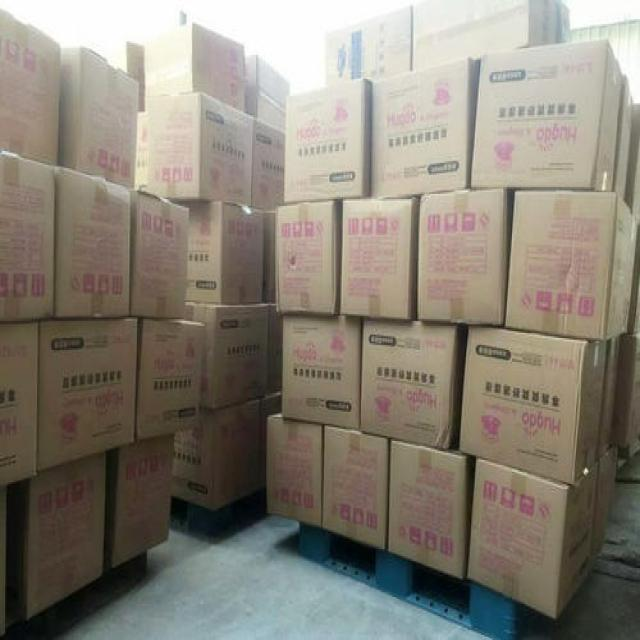box: (457, 323, 608, 486), (468, 41, 625, 194), (467, 456, 599, 619), (504, 192, 637, 340), (6, 455, 106, 621), (370, 57, 483, 197), (35, 319, 137, 472), (360, 316, 471, 451), (415, 192, 511, 324), (387, 439, 477, 578), (54, 166, 132, 317), (59, 48, 138, 192), (146, 94, 251, 202), (170, 197, 275, 304), (283, 81, 370, 209), (411, 2, 570, 70), (338, 197, 420, 319), (172, 400, 262, 510), (0, 9, 60, 170), (283, 314, 364, 432), (183, 302, 270, 410), (0, 151, 54, 321), (106, 434, 173, 568), (145, 26, 244, 115), (321, 426, 388, 551), (136, 321, 204, 441), (127, 189, 189, 317), (274, 201, 340, 312), (325, 5, 412, 88), (0, 317, 38, 487), (268, 415, 324, 528), (243, 55, 289, 136), (611, 331, 640, 450), (251, 118, 284, 208), (593, 446, 616, 568), (614, 74, 635, 202), (136, 108, 147, 194)
